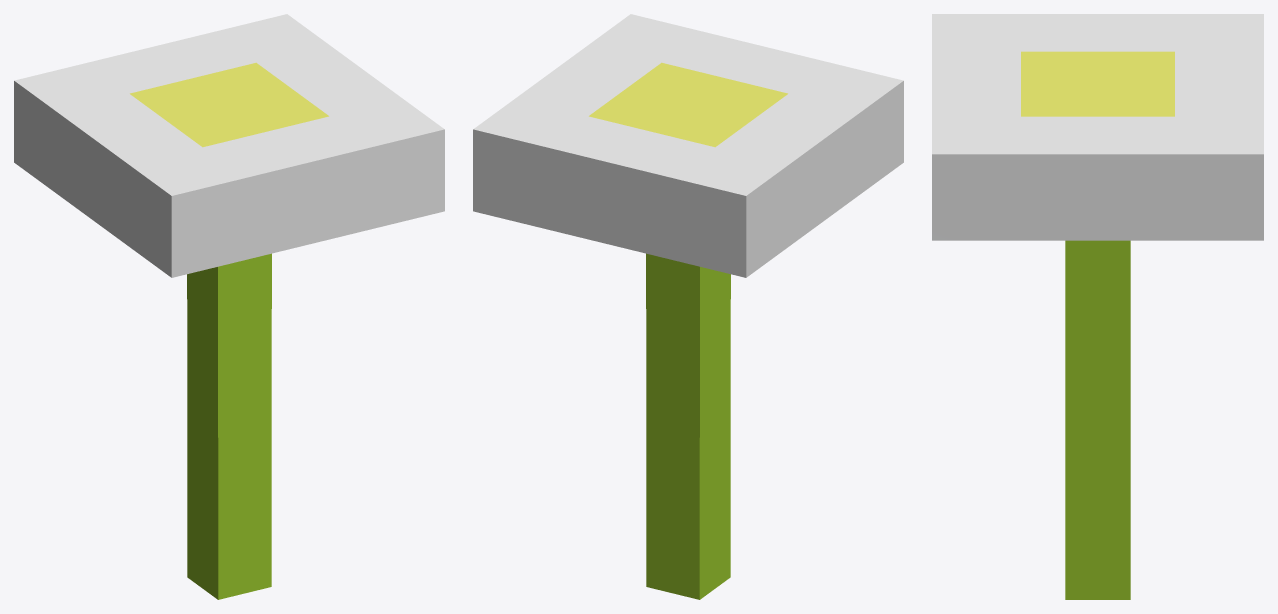
The model's file is Flower_02.fbx.
3 views of the same model, side by side, from view 1: azimuth 30°, elevation 25°; view 2: azimuth 150°, elevation 25°; view 3: azimuth 270°, elevation 25° (orthographic). The views are drawn at different scales.
Parts seen in each view (by area): view 1: Flower_02; view 2: Flower_02; view 3: Flower_02.
Boxes of the visible parts, box(x1,y1,x2,y2) form: Flower_02: box(14, 14, 444, 599); Flower_02: box(473, 14, 903, 599); Flower_02: box(932, 14, 1263, 599).
Size of the model in its own units: 28.19 by 47.07 by 28.19.
